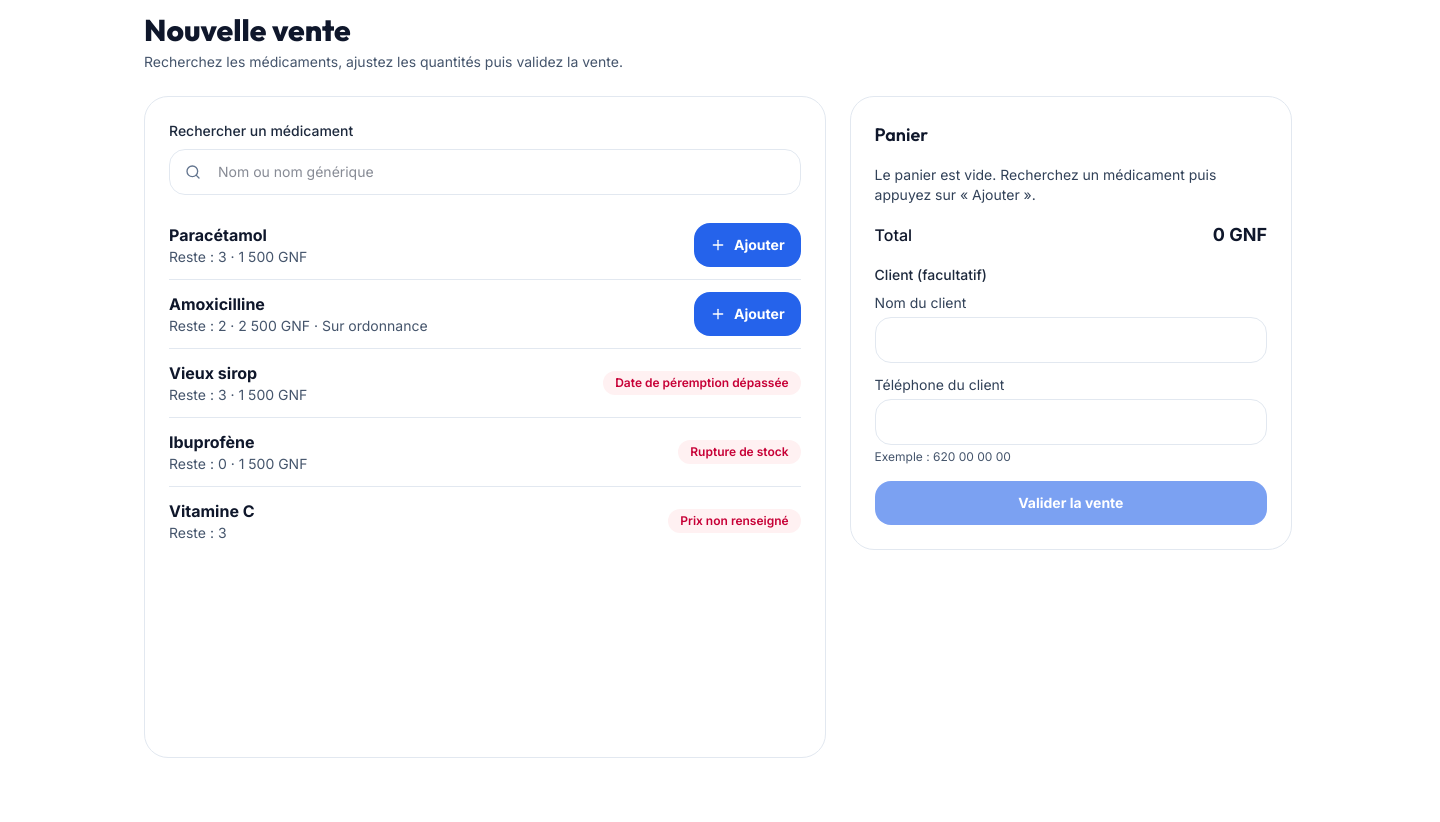
Test: Nouvelle vente › borne les quantités au stock et calcule le total en direct
This screenshot has width=1440, height=822.
Expected: the text "Paracétamol" is shown, [169, 225, 267, 245]
Click the button with aria-label "Ajouter Paracétamol au panier": (747, 245) [694, 223, 801, 267]
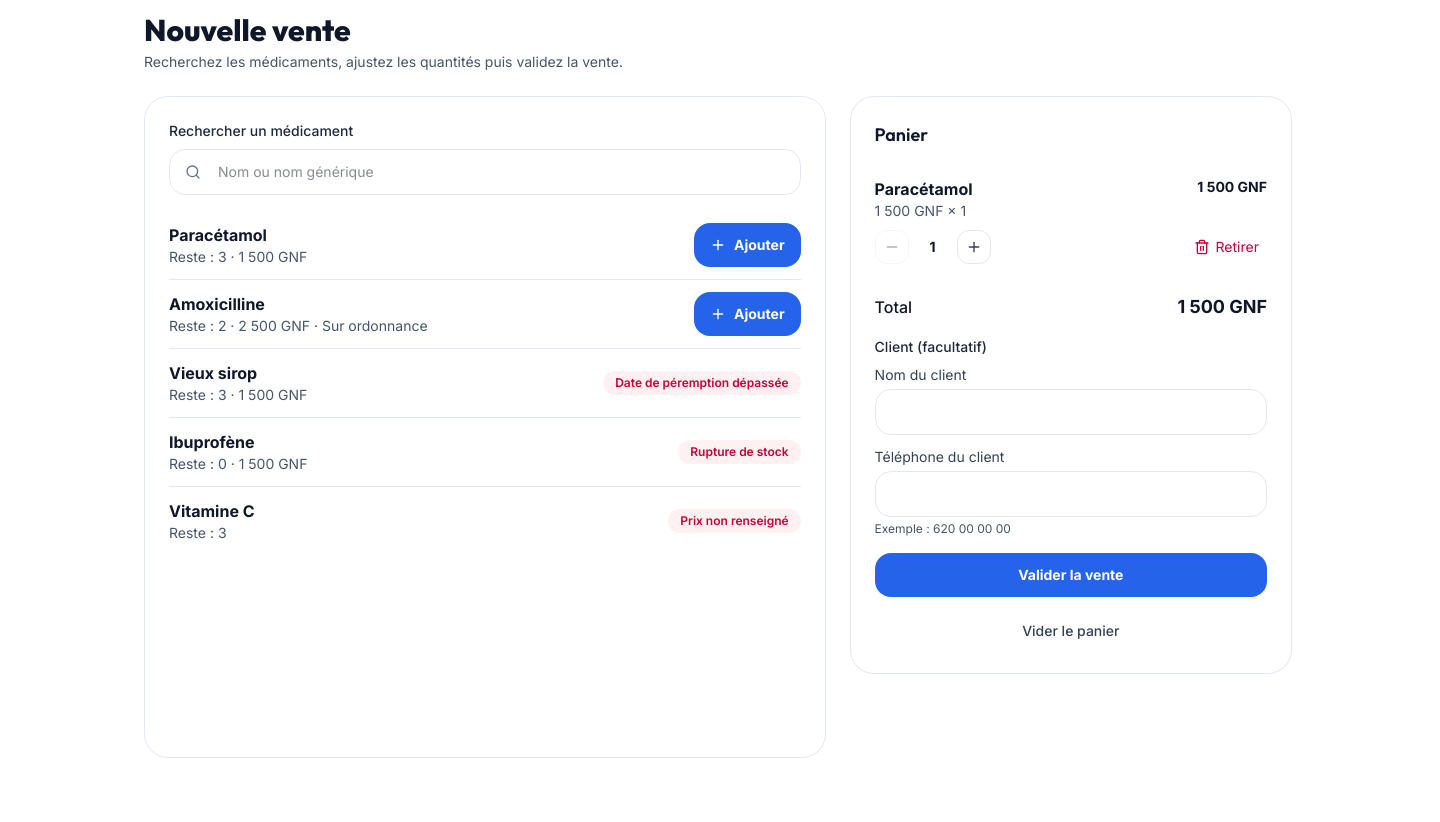
Now the button named "Diminuer la quantité de Paracétamol" is disabled, box [875, 230, 909, 264]
Click the button named "Augmenter la quantité de Paracétamol": (974, 247) [957, 230, 991, 264]
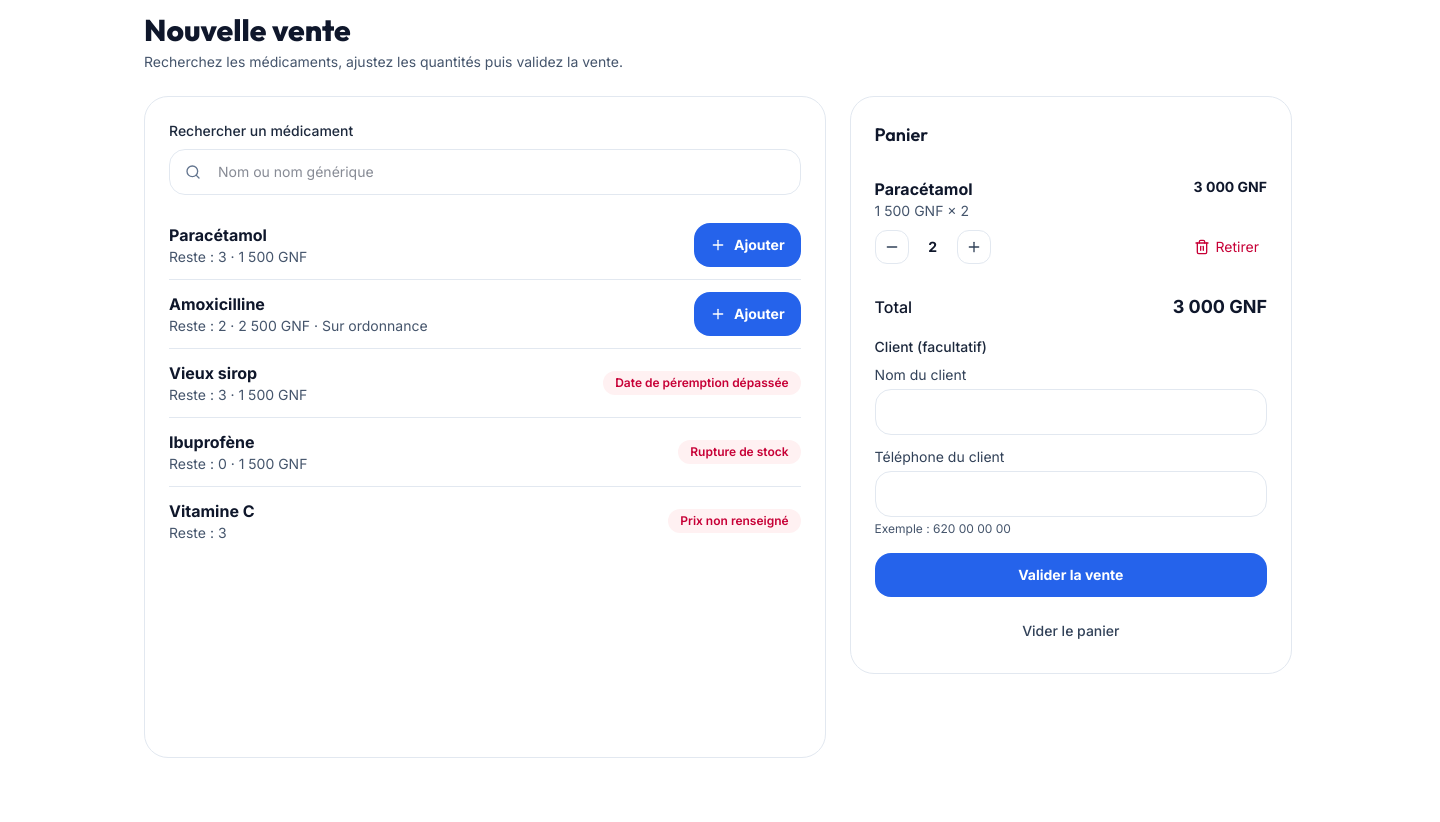
Click the button named "Augmenter la quantité de Paracétamol": (974, 247) [957, 230, 991, 264]
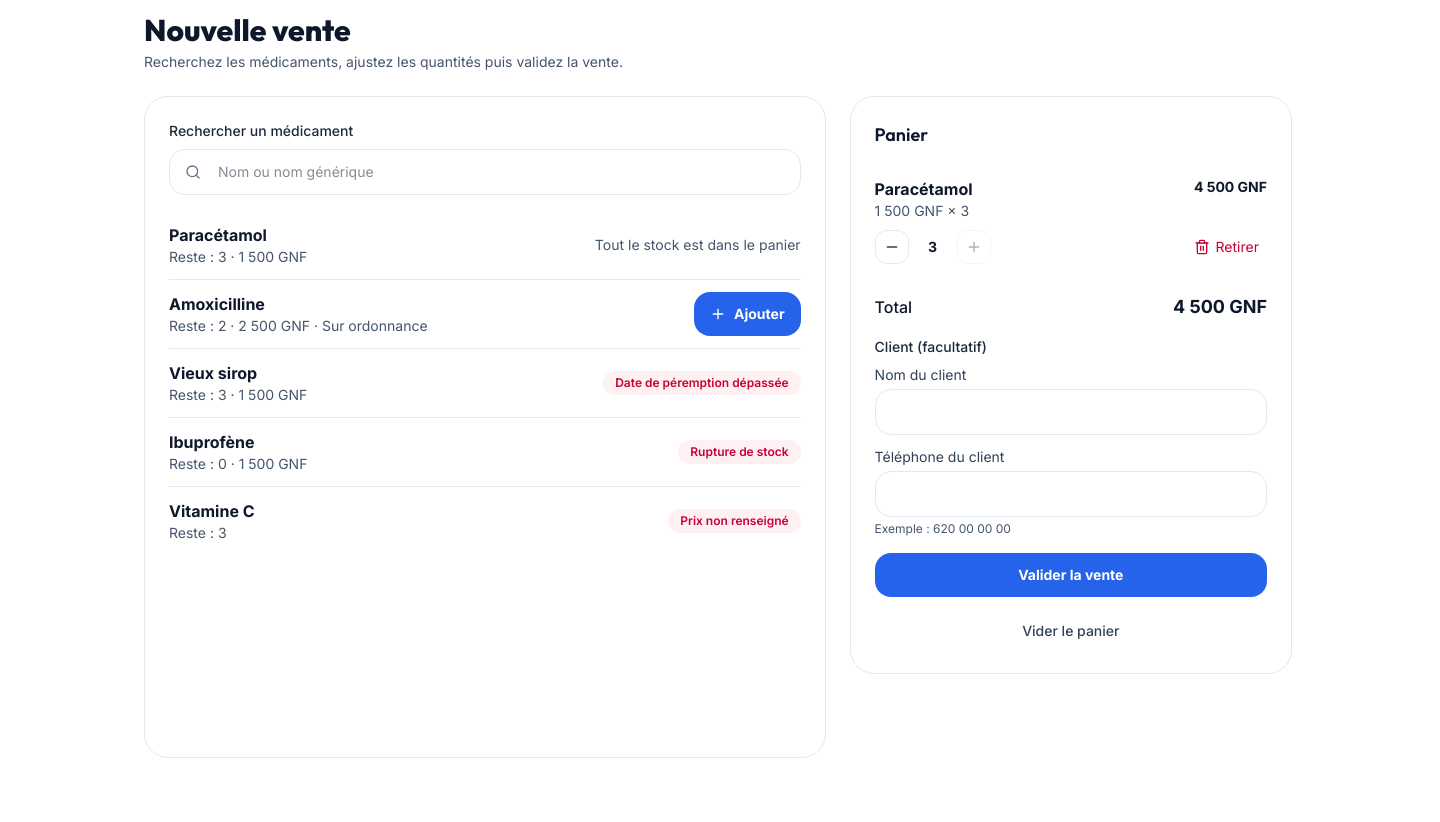
Now the button named "Diminuer la quantité de Paracétamol" is enabled, box [875, 230, 909, 264]
Now the button named "Augmenter la quantité de Paracétamol" is disabled, box [957, 230, 991, 264]
Now the text "Tout le stock est dans le panier" is shown, box [595, 235, 801, 255]
